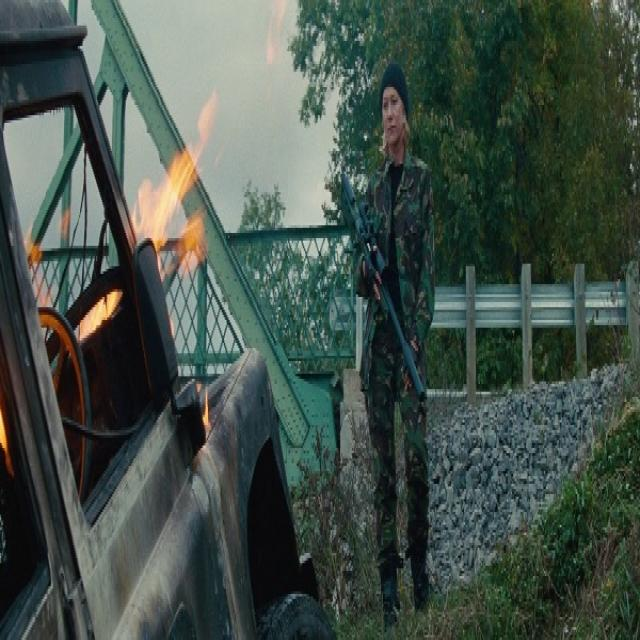rifle: (344, 177, 430, 413)
